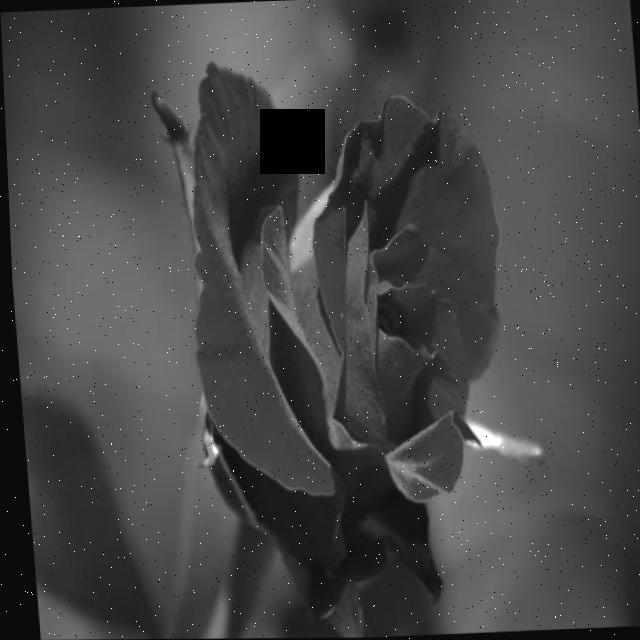rose: (158, 40, 527, 631)
